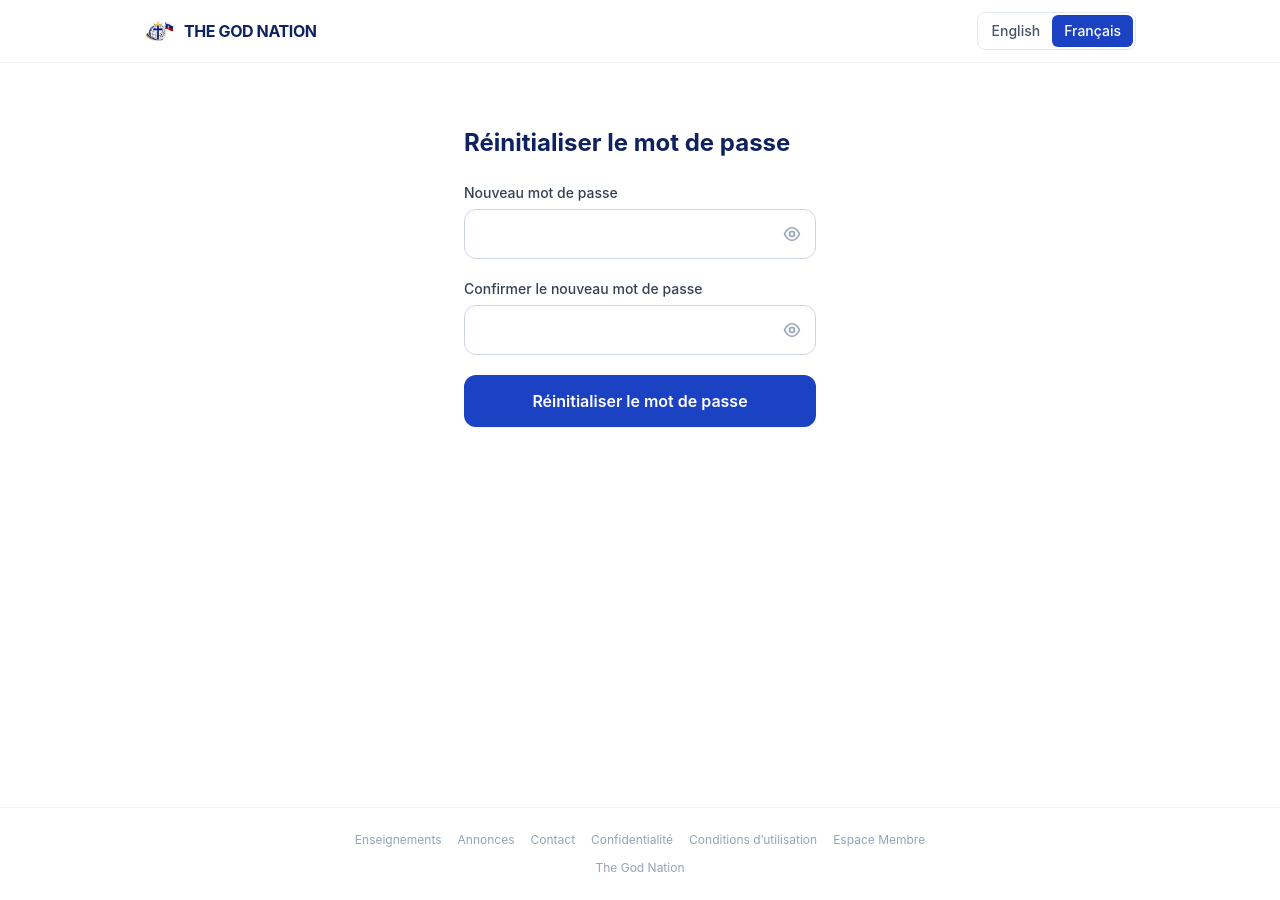
Password link pages › the reset page is in French for a French reader, and the language buttons switch it
The image size is (1280, 900).
Expected: the heading "Réinitialiser le mot de passe" is shown, [464, 127, 816, 159]
Expected: the password field labelled "Nouveau mot de passe" is shown, [464, 209, 816, 259]
Click the button "English" at (1016, 31), box [980, 15, 1052, 47]
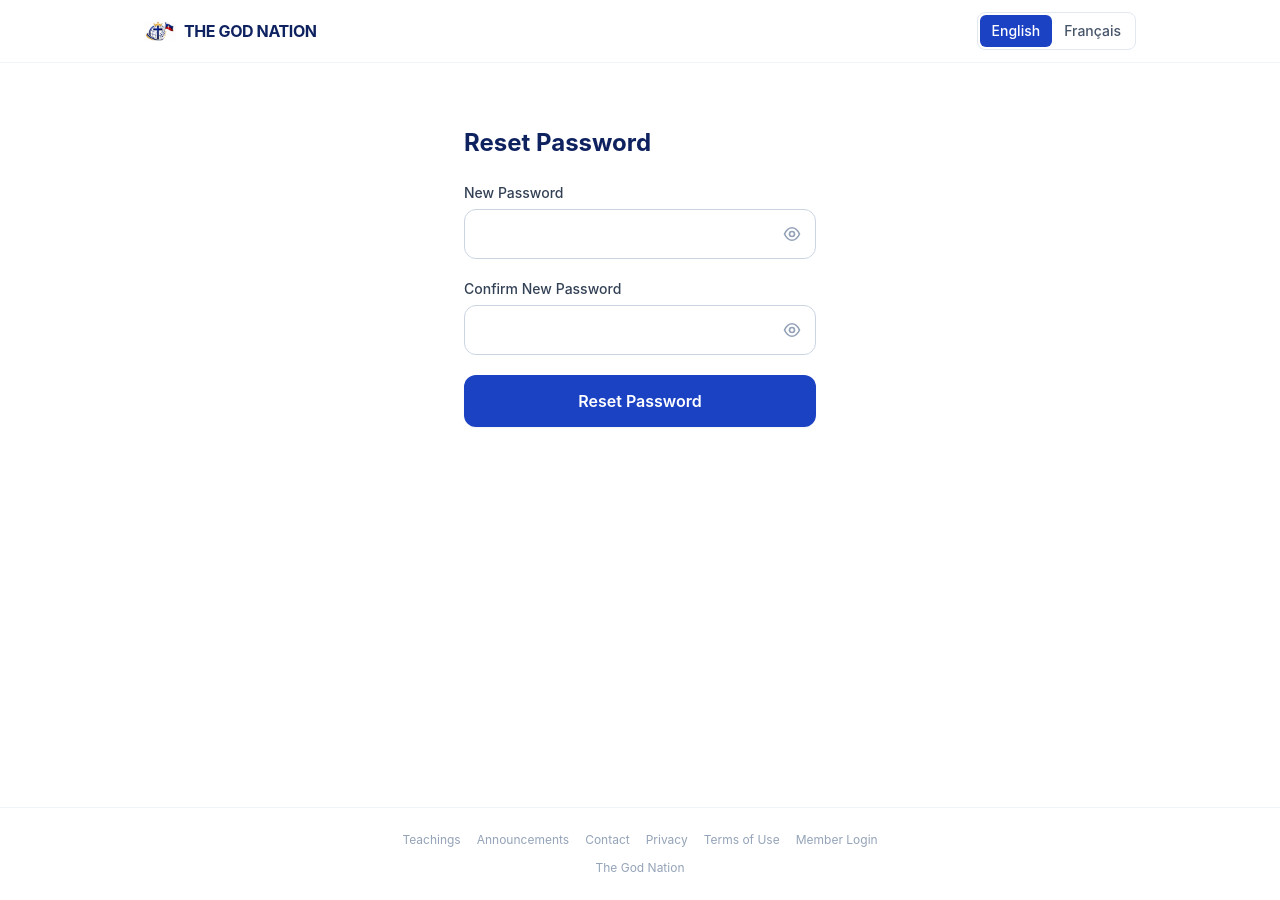
Expected: the password field labelled "New Password" is shown, [464, 209, 816, 259]
Now the heading "Reset Password" is shown, box [464, 128, 651, 157]
